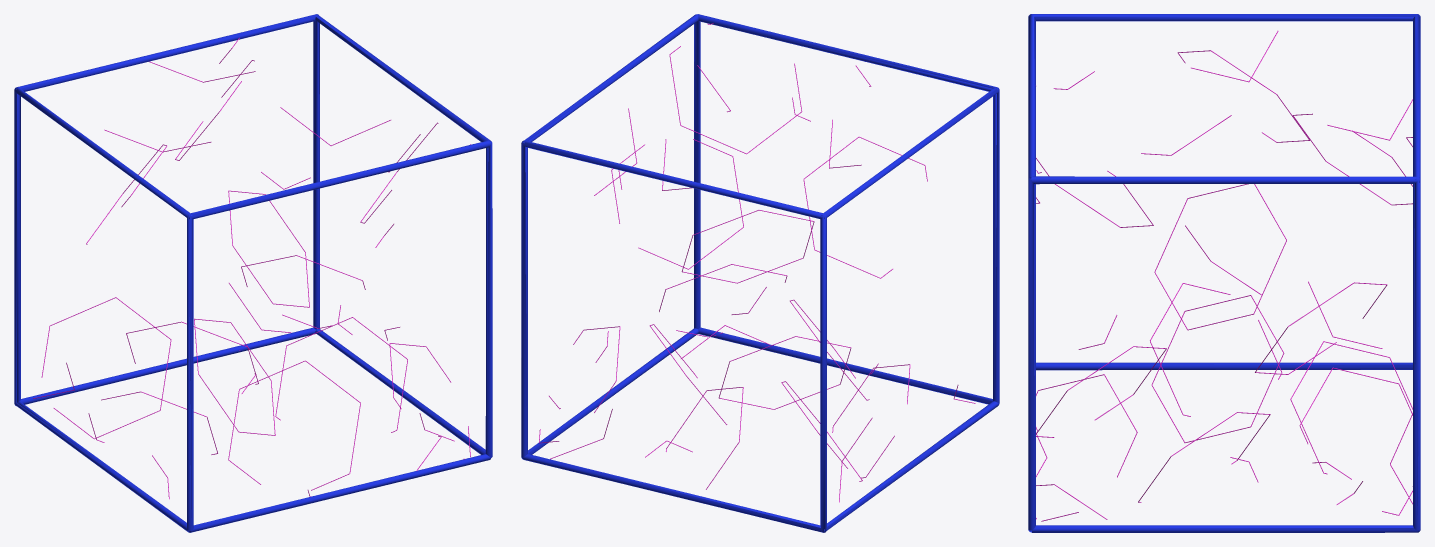
Rendered from DDD000.glb.
3 renders of one model, left to right at view 1: azimuth 30°, elevation 25°; view 2: azimuth 150°, elevation 25°; view 3: azimuth 270°, elevation 25°, orthographic. The views are drawn at different scales.
Visible parts, largest first — view 1: Shape_IndexedLineSet, Shape_IndexedLineSet.001; view 2: Shape_IndexedLineSet, Shape_IndexedLineSet.001; view 3: Shape_IndexedLineSet, Shape_IndexedLineSet.001.
Boxes of the visible parts, left/top/right/bottom form: Shape_IndexedLineSet: left=14, top=14, right=492, bottom=532; Shape_IndexedLineSet.001: left=33, top=38, right=470, bottom=499; Shape_IndexedLineSet: left=521, top=14, right=999, bottom=532; Shape_IndexedLineSet.001: left=539, top=23, right=975, bottom=502; Shape_IndexedLineSet: left=1028, top=14, right=1420, bottom=532; Shape_IndexedLineSet.001: left=1036, top=31, right=1412, bottom=521.
Size of the model in its own units: 10.2 by 10.2 by 10.2.
